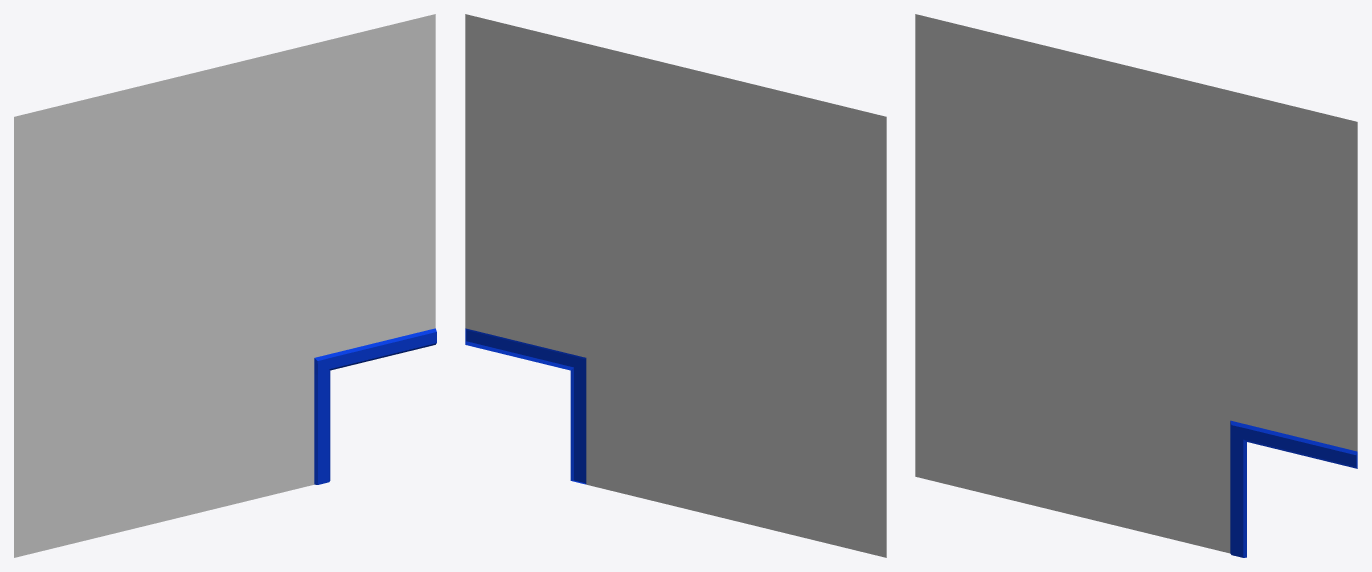
The model's file is SM_WallOfficeVent.fbx.
3 views of the same model, side by side, from view 1: azimuth 30°, elevation 25°; view 2: azimuth 150°, elevation 25°; view 3: azimuth 330°, elevation 25° (orthographic). The views are drawn at different scales.
Visible parts, largest first — view 1: WallOfficeVent; view 2: WallOfficeVent; view 3: WallOfficeVent.
Part boxes in pixels (box(x1,y1,x2,y2)): WallOfficeVent: box(14, 14, 436, 557); WallOfficeVent: box(465, 14, 886, 557); WallOfficeVent: box(915, 14, 1357, 557).
Bounding box in the file's own units: 400 × 400 × 1.99.
